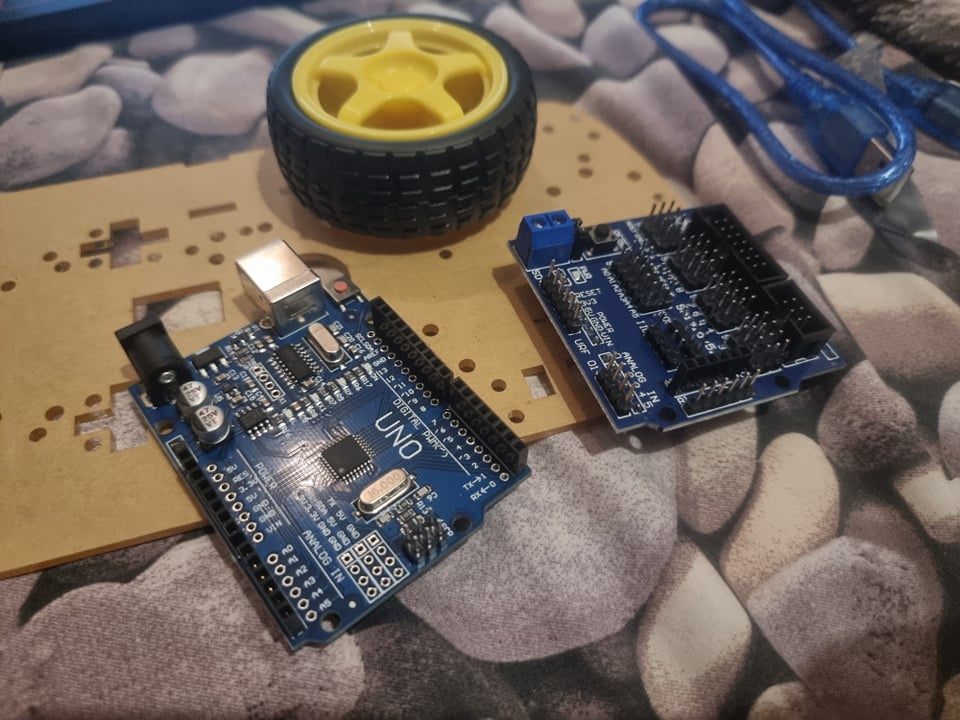5V EXPANSION: (509, 200, 854, 438)
UNO R3: (118, 238, 531, 645)
